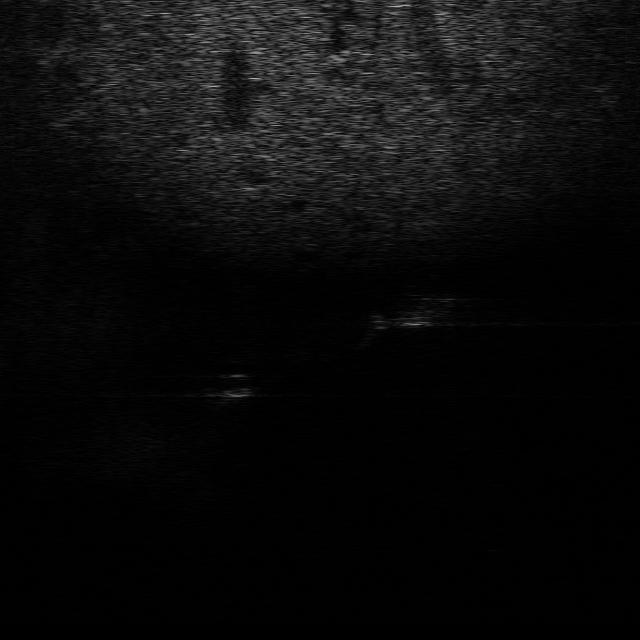ball: (202, 368, 262, 404)
human body: (358, 294, 462, 342)
